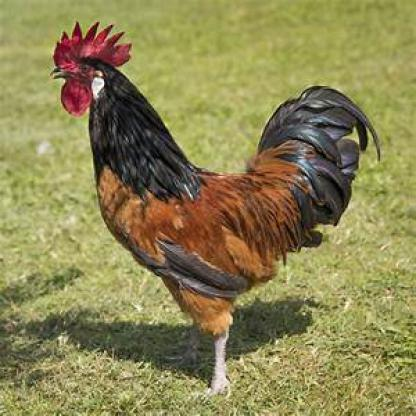chicken: (47, 21, 380, 394)
